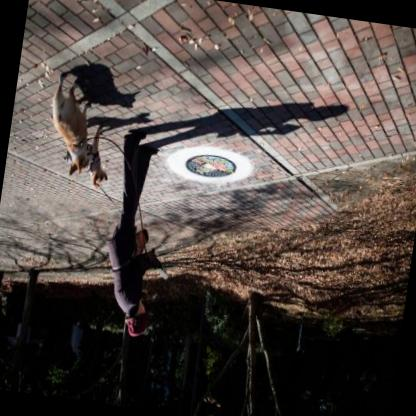manholes: (170, 129, 252, 202)
